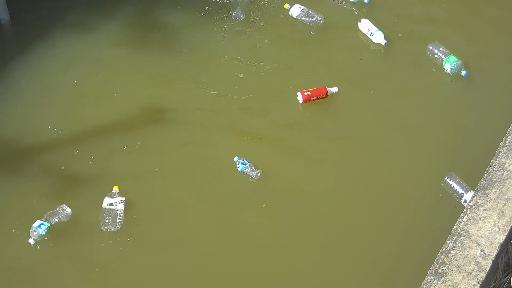plastic: (4, 197, 76, 253), (82, 175, 136, 235), (418, 33, 472, 88), (434, 153, 475, 215), (219, 147, 274, 186), (356, 18, 407, 60), (278, 82, 340, 110), (282, 0, 331, 35), (221, 0, 248, 22), (332, 0, 374, 9)
